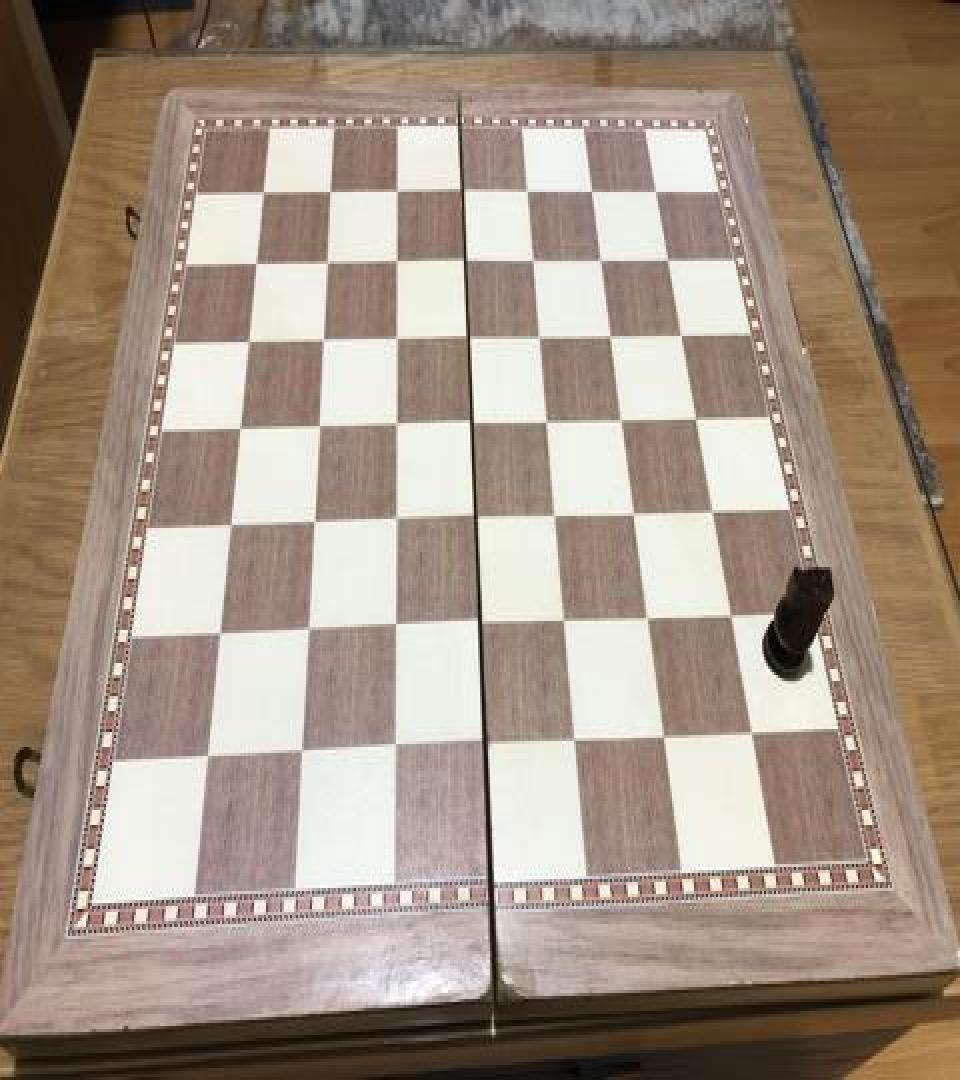xcorner: (718, 595, 742, 632), (210, 616, 234, 653), (197, 739, 221, 776), (644, 170, 668, 206), (580, 171, 604, 207), (386, 174, 410, 210), (320, 174, 344, 210), (254, 176, 278, 212), (656, 238, 680, 274), (589, 240, 613, 276), (522, 242, 546, 278), (454, 243, 478, 279), (386, 243, 410, 279), (316, 244, 340, 280), (247, 246, 271, 282), (669, 315, 693, 351), (599, 316, 623, 352), (528, 318, 552, 354), (457, 320, 481, 356), (385, 321, 409, 357), (312, 322, 336, 358), (239, 324, 263, 360), (684, 399, 708, 435), (610, 400, 634, 436), (536, 402, 560, 438), (460, 405, 484, 441), (384, 406, 408, 442), (308, 408, 332, 444), (230, 411, 254, 447), (700, 492, 724, 528), (622, 494, 646, 530), (543, 496, 567, 532), (464, 500, 488, 536), (384, 502, 408, 538), (303, 504, 327, 540), (221, 507, 245, 543), (636, 598, 660, 634), (552, 603, 576, 639), (468, 606, 492, 642), (383, 609, 407, 645), (297, 612, 321, 648), (739, 714, 763, 750), (651, 717, 675, 753), (562, 722, 586, 758), (473, 726, 497, 762), (382, 730, 406, 766), (290, 735, 314, 771), (516, 173, 540, 208), (451, 173, 475, 208)
